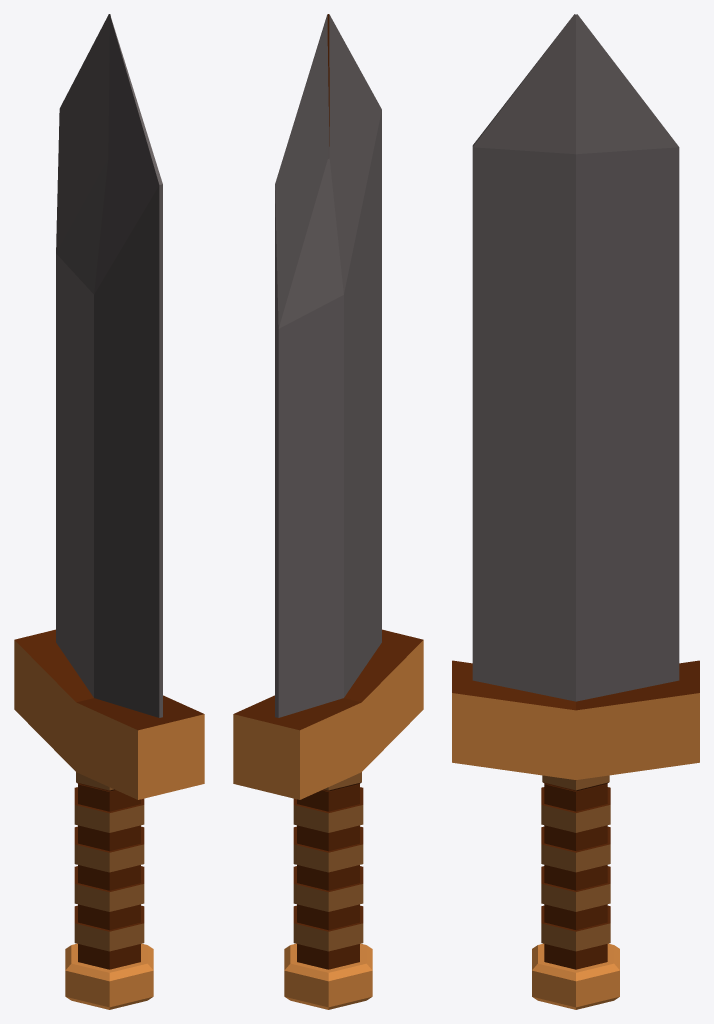
The model's file is epee.fbx.
The picture shows the model from 3 angles, left to right: view 1: azimuth 30°, elevation 25°; view 2: azimuth 150°, elevation 25°; view 3: azimuth 270°, elevation 25°; orthographic projection.
Parts seen in each view (by area): view 1: Cube; view 2: Cube; view 3: Cube.
Boxes of the visible parts, left/top/right/bottom form: Cube: left=14, top=14, right=204, bottom=1009; Cube: left=233, top=14, right=423, bottom=1009; Cube: left=452, top=14, right=699, bottom=1009.
Bounding box in the file's own units: 265 × 2803 × 644.
